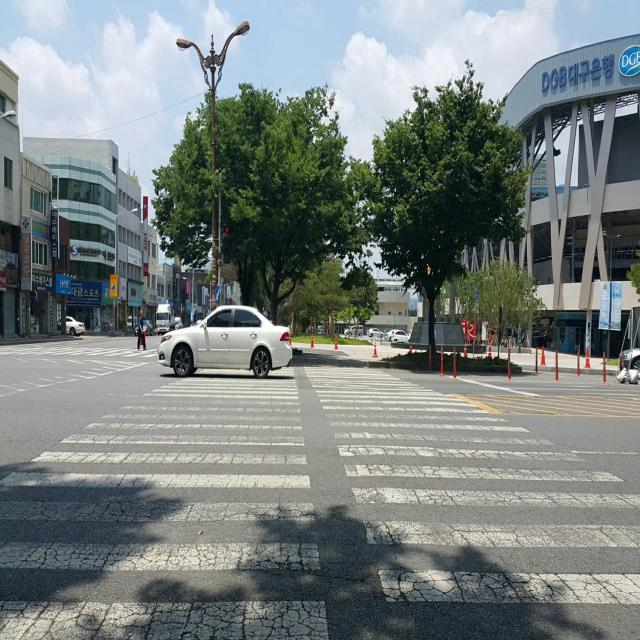빨간불: (221, 222, 231, 262)
횡단보도: (0, 362, 640, 639)
